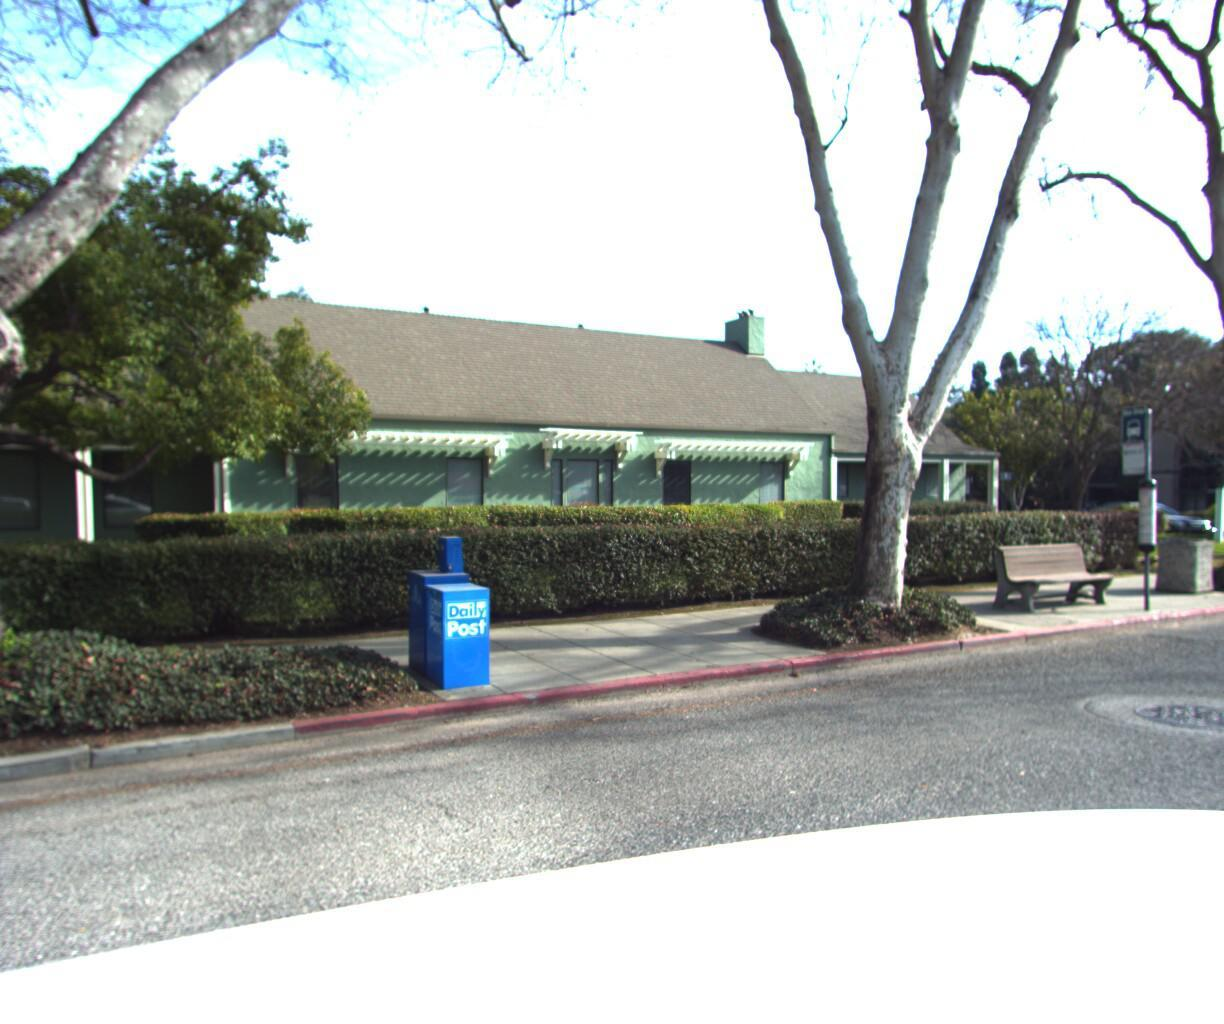car: (1091, 492, 1206, 546)
